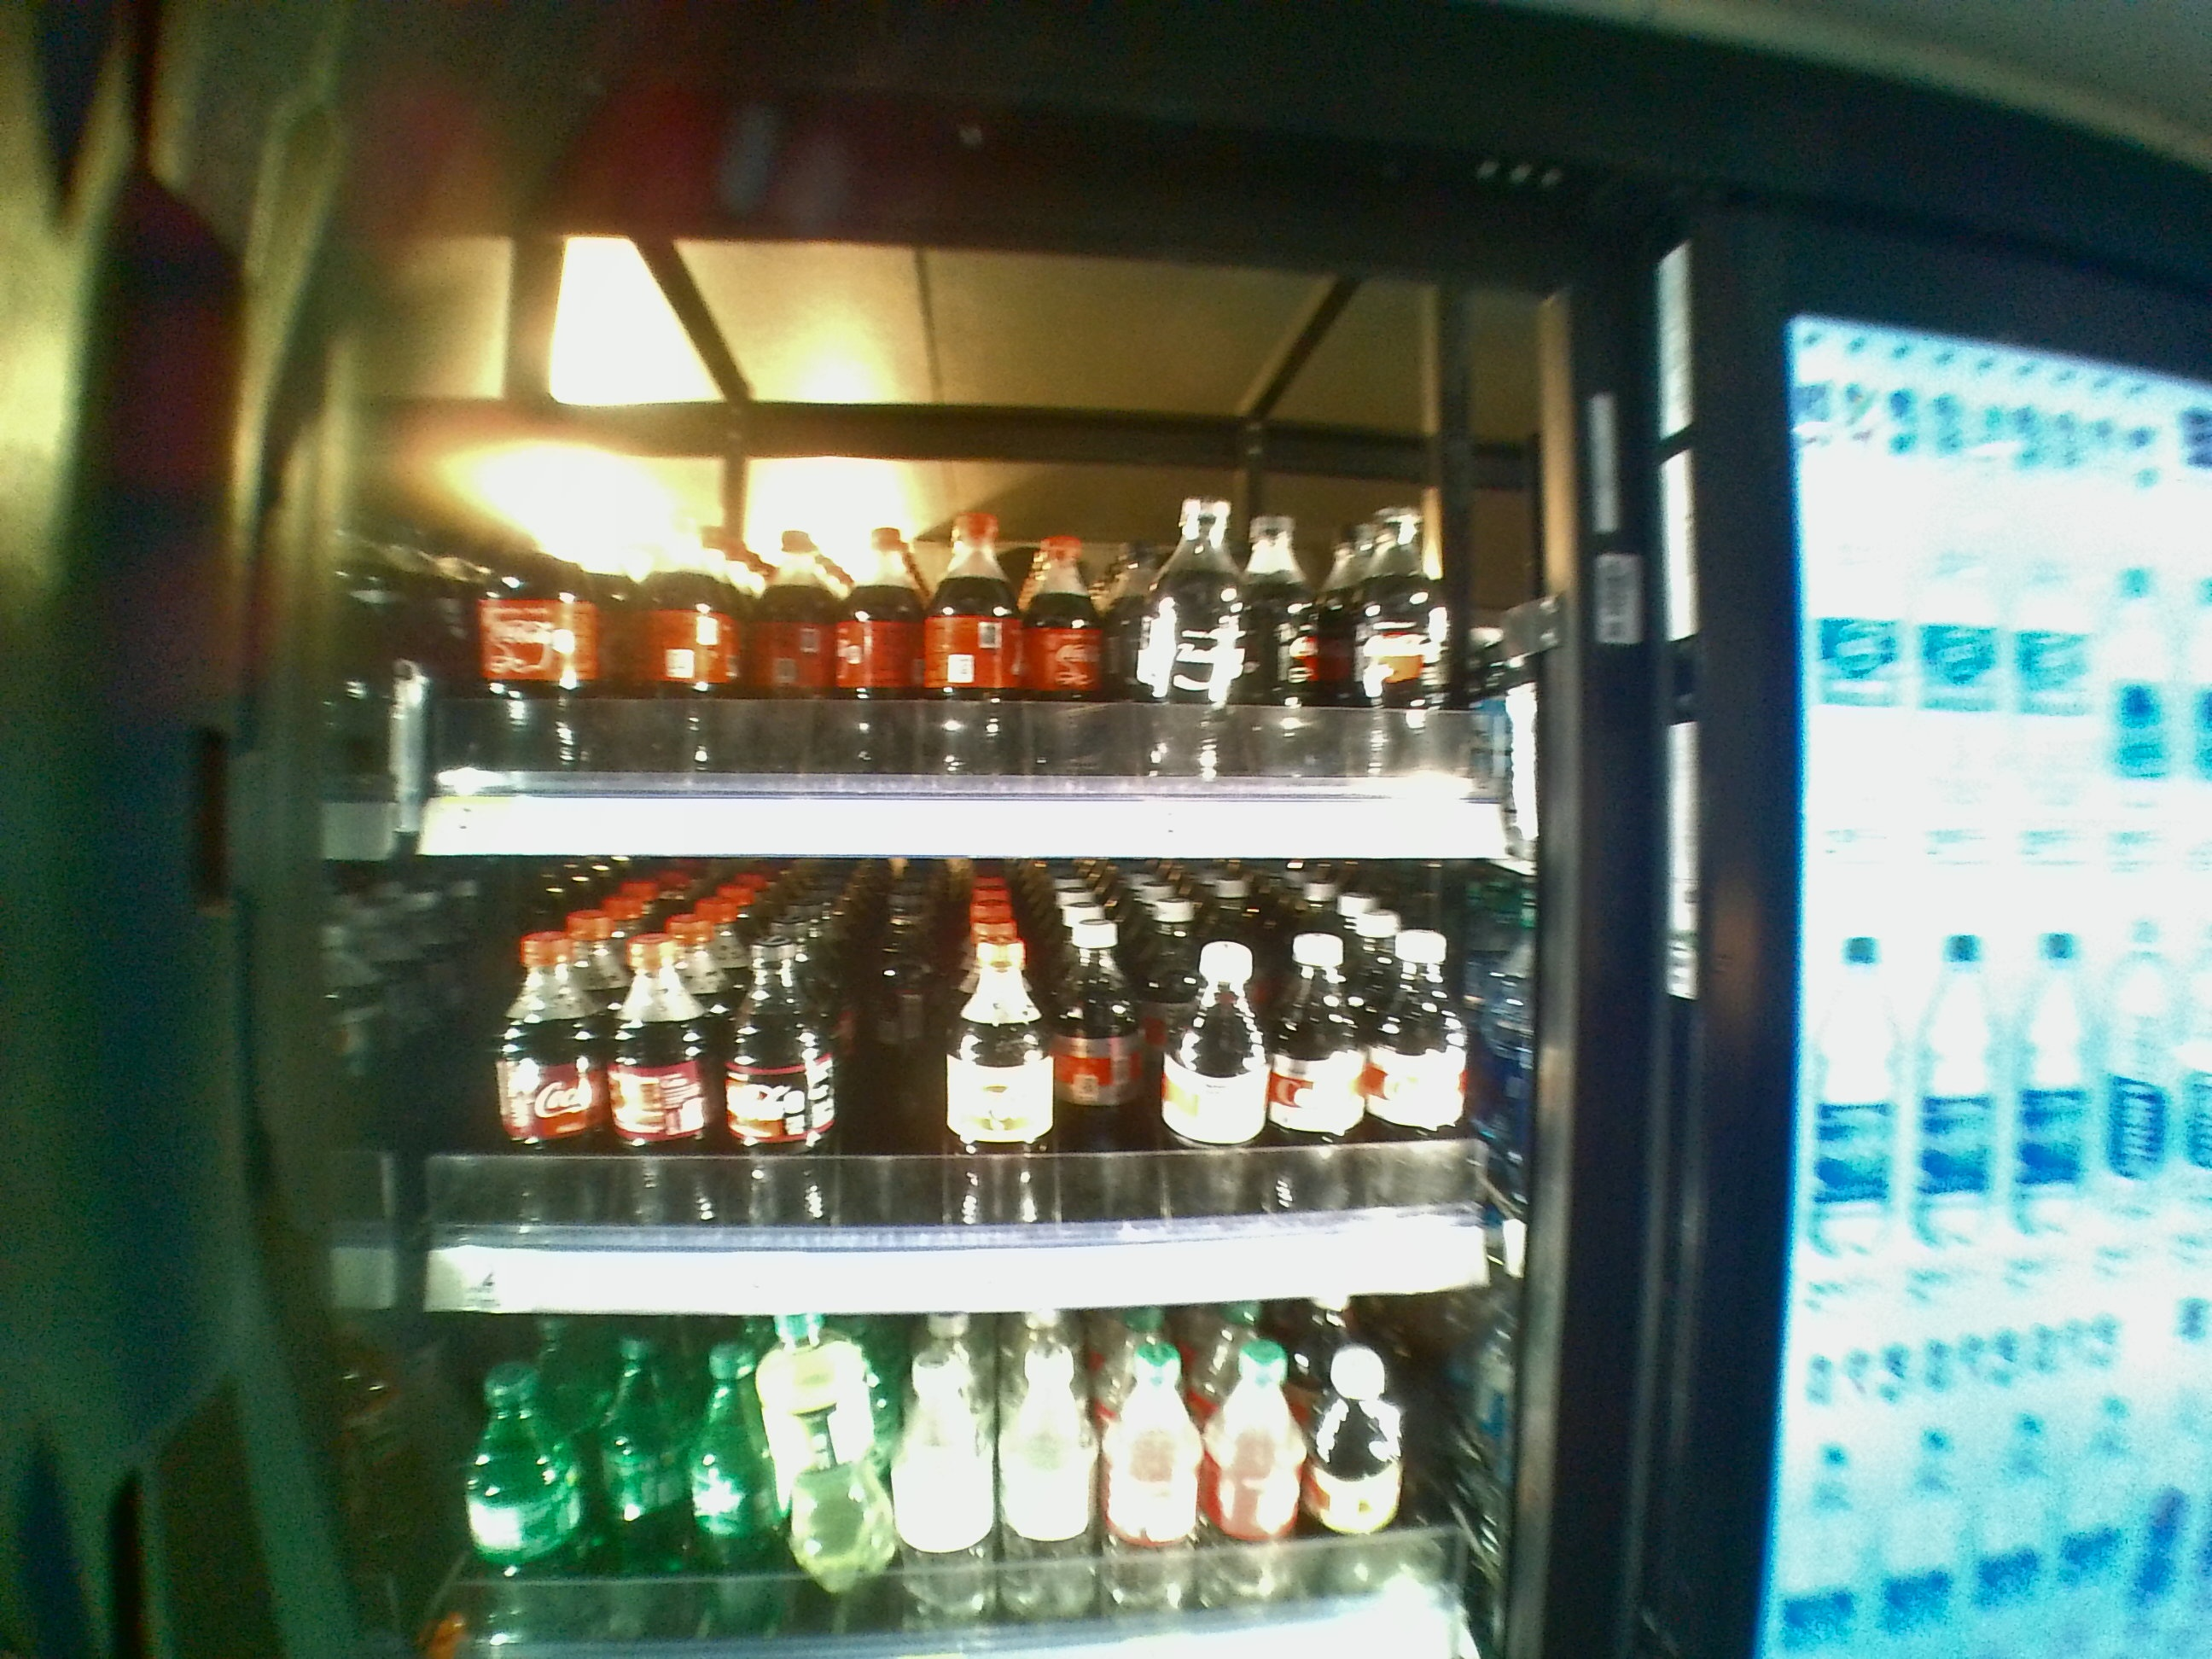shelf: (371, 221, 1594, 864), (369, 864, 1578, 1314)
